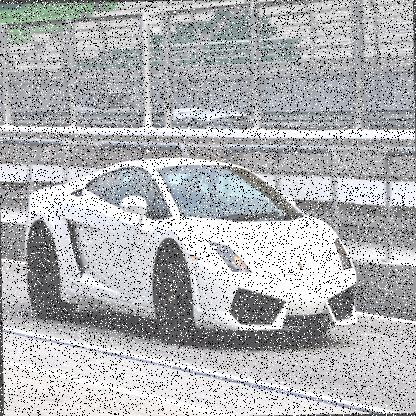Car: (22, 151, 358, 340), (74, 86, 138, 115), (172, 106, 252, 127)
